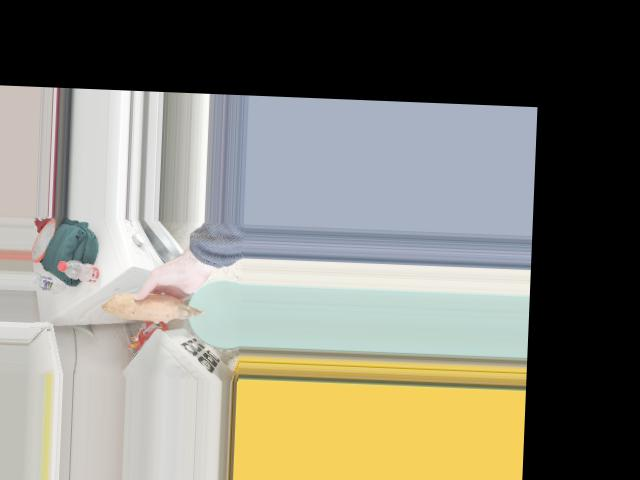sweet_potato: (104, 294, 191, 320)
